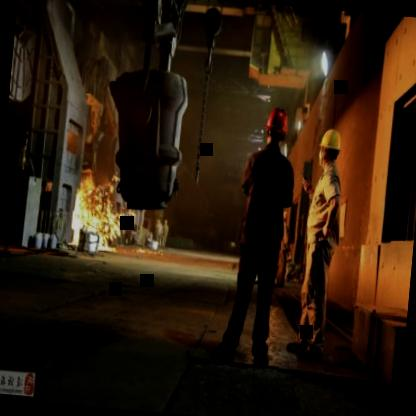helmet: (316, 127, 344, 176), (263, 108, 288, 152)
